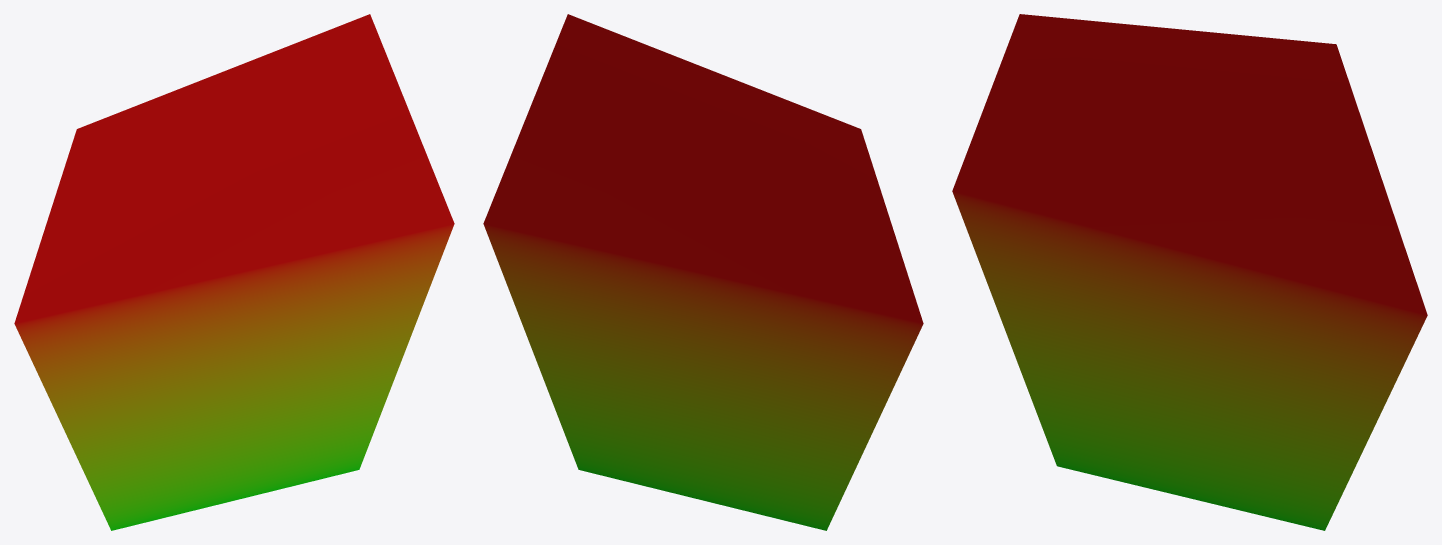
Rendered from Tundra Grass_LOD7_Var18_wk2oaeyqx.fbx.
3 renders of one model, left to right at view 1: azimuth 30°, elevation 25°; view 2: azimuth 150°, elevation 25°; view 3: azimuth 330°, elevation 25°, orthographic. The views are drawn at different scales.
Parts seen in each view (by area): view 1: _gnh1_Var18_LOD7; view 2: _gnh1_Var18_LOD7; view 3: _gnh1_Var18_LOD7.
Part boxes in pixels (x1,y1,x2,y2): _gnh1_Var18_LOD7: [14, 14, 454, 530]; _gnh1_Var18_LOD7: [483, 14, 923, 530]; _gnh1_Var18_LOD7: [952, 14, 1427, 530].
Size of the model in its own units: 67.22 by 66.22 by 2.84e-06.
